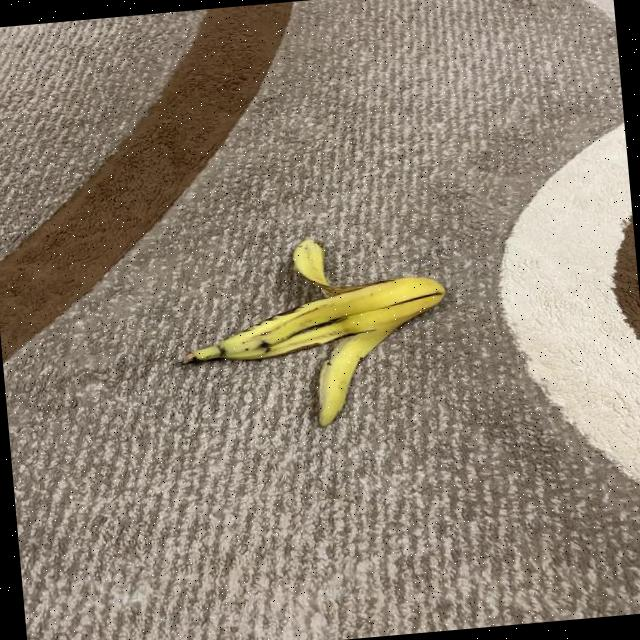banana-peel: (168, 225, 456, 438)
